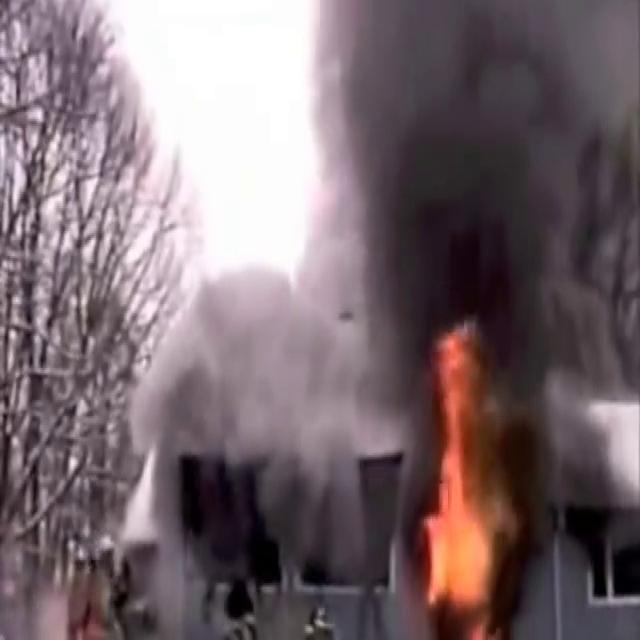Fire: (414, 319, 504, 634)
Smoke: (332, 0, 640, 387), (153, 235, 414, 542)
